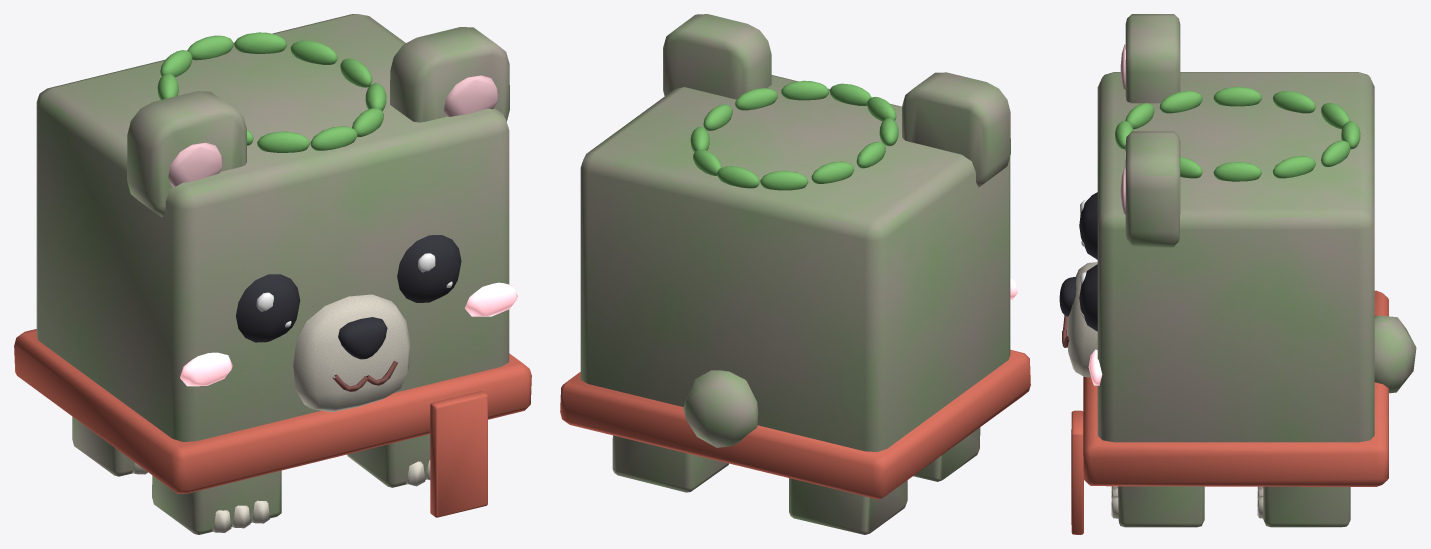
Rendered from Pet_Uralter.fbx.
The picture shows the model from 3 angles, left to right: view 1: azimuth 30°, elevation 25°; view 2: azimuth 150°, elevation 25°; view 3: azimuth 270°, elevation 25°; orthographic projection. The views are drawn at different scales.
Parts seen in each view (by area): view 1: Pet_Uralter_body, Pet_Uralter_acc_scarf, Pet_Uralter_ears, Pet_Uralter_muzzle, Pet_Uralter_feet, Pet_Uralter_acc_scarf_end, Pet_Uralter_eyes, Pet_Uralter, Pet_Uralter_cute_innerear_-1, Pet_Uralter_toes, Pet_Uralter_nose, Pet_Uralter_cute_blush_-1 (+8 smaller); view 2: Pet_Uralter_body, Pet_Uralter_acc_scarf, Pet_Uralter_ears, Pet_Uralter_feet, Pet_Uralter_cute_tail, Pet_Uralter_acc_leaf10, Pet_Uralter_acc_leaf4, Pet_Uralter_acc_leaf11, Pet_Uralter_acc_leaf3, Pet_Uralter_acc_leaf5, Pet_Uralter_acc_leaf9, Pet_Uralter_acc_leaf6 (+1 smaller); view 3: Pet_Uralter_body, Pet_Uralter_acc_scarf, Pet_Uralter_ears, Pet_Uralter_feet, Pet_Uralter_cute_tail, Pet_Uralter_eyes, Pet_Uralter_muzzle, Pet_Uralter_acc_scarf_end, Pet_Uralter_acc_leaf0, Pet_Uralter_acc_leaf6, Pet_Uralter_acc_leaf1, Pet_Uralter_acc_leaf5 (+7 smaller).
Boxes of the visible parts, left/top/right/bottom form: Pet_Uralter_body: left=36, top=14, right=509, bottom=441; Pet_Uralter_acc_scarf: left=14, top=329, right=531, bottom=493; Pet_Uralter_ears: left=127, top=27, right=509, bottom=217; Pet_Uralter_muzzle: left=293, top=294, right=410, bottom=412; Pet_Uralter_feet: left=72, top=416, right=430, bottom=534; Pet_Uralter_acc_scarf_end: left=430, top=391, right=487, bottom=517; Pet_Uralter_eyes: left=236, top=235, right=461, bottom=342; Pet_Uralter: left=418, top=75, right=517, bottom=316; Pet_Uralter_cute_innerear_-1: left=168, top=142, right=222, bottom=186; Pet_Uralter_toes: left=132, top=460, right=430, bottom=532; Pet_Uralter_nose: left=338, top=317, right=387, bottom=359; Pet_Uralter_cute_blush_-1: left=180, top=352, right=232, bottom=386; Pet_Uralter_body: left=580, top=75, right=1010, bottom=451; Pet_Uralter_acc_scarf: left=560, top=349, right=1030, bottom=499; Pet_Uralter_ears: left=663, top=14, right=1010, bottom=187; Pet_Uralter_feet: left=612, top=427, right=980, bottom=534; Pet_Uralter_cute_tail: left=683, top=370, right=758, bottom=447; Pet_Uralter_acc_leaf10: left=781, top=80, right=828, bottom=100; Pet_Uralter_acc_leaf4: left=760, top=170, right=808, bottom=190; Pet_Uralter_acc_leaf11: left=735, top=88, right=777, bottom=110; Pet_Uralter_acc_leaf3: left=717, top=166, right=759, bottom=188; Pet_Uralter_acc_leaf5: left=811, top=161, right=854, bottom=183; Pet_Uralter_acc_leaf9: left=829, top=83, right=871, bottom=105; Pet_Uralter_acc_leaf6: left=856, top=141, right=885, bottom=168; Pet_Uralter_body: left=1097, top=72, right=1374, bottom=442; Pet_Uralter_acc_scarf: left=1083, top=290, right=1388, bottom=486; Pet_Uralter_ears: left=1125, top=14, right=1180, bottom=247; Pet_Uralter_feet: left=1117, top=486, right=1350, bottom=527; Pet_Uralter_cute_tail: left=1374, top=315, right=1416, bottom=393; Pet_Uralter_eyes: left=1079, top=192, right=1097, bottom=331; Pet_Uralter_muzzle: left=1067, top=262, right=1097, bottom=377; Pet_Uralter_acc_scarf_end: left=1071, top=410, right=1083, bottom=534; Pet_Uralter_acc_leaf0: left=1213, top=162, right=1261, bottom=181; Pet_Uralter_acc_leaf6: left=1213, top=86, right=1261, bottom=106; Pet_Uralter_acc_leaf1: left=1273, top=156, right=1315, bottom=178; Pet_Uralter_acc_leaf5: left=1273, top=91, right=1315, bottom=113.
Size of the model in its own units: 2.35 by 2.69 by 2.21.
14 materials, 5 textured.
